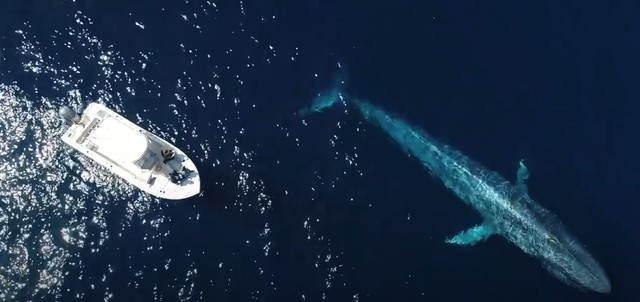whale: (290, 58, 617, 300)
